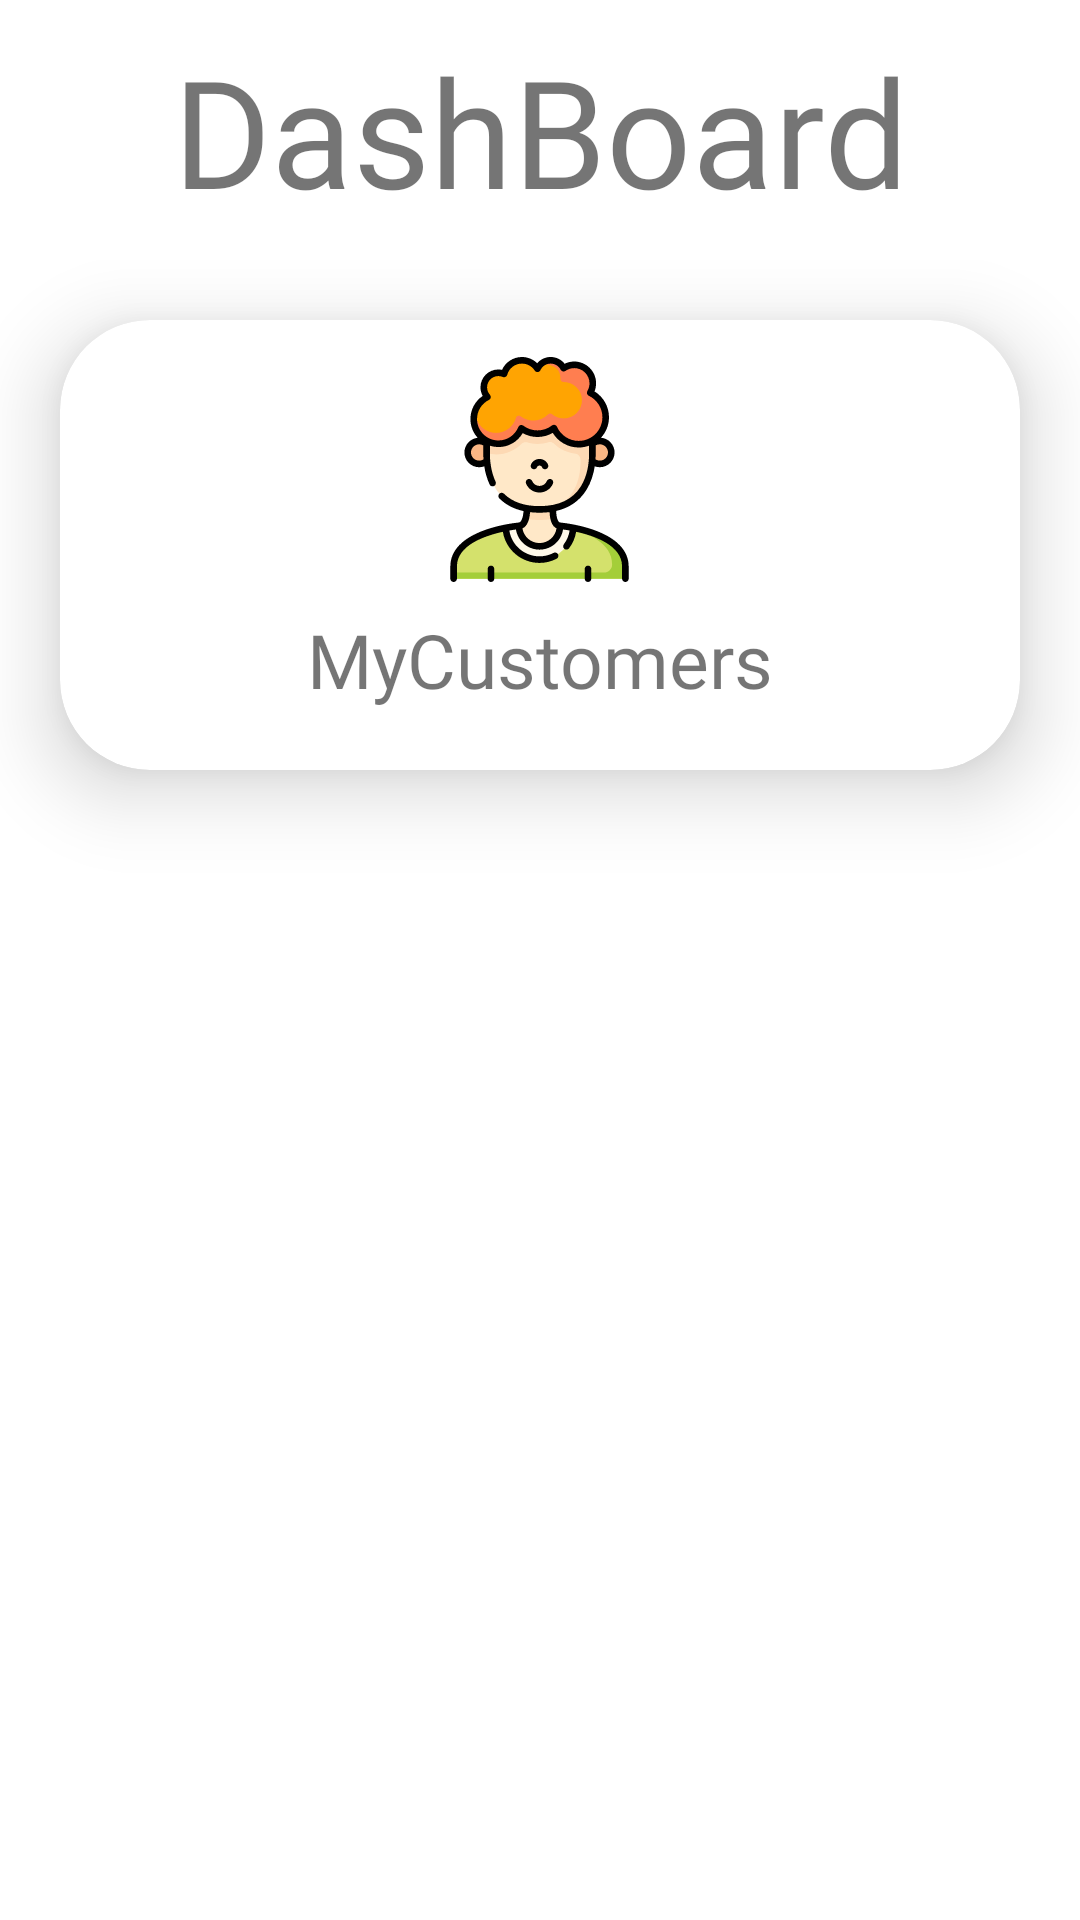

Icons on this 1080*1920 Android screen, each with its box as (x1, y1, x2, y2):
person: (450, 357, 629, 582)
